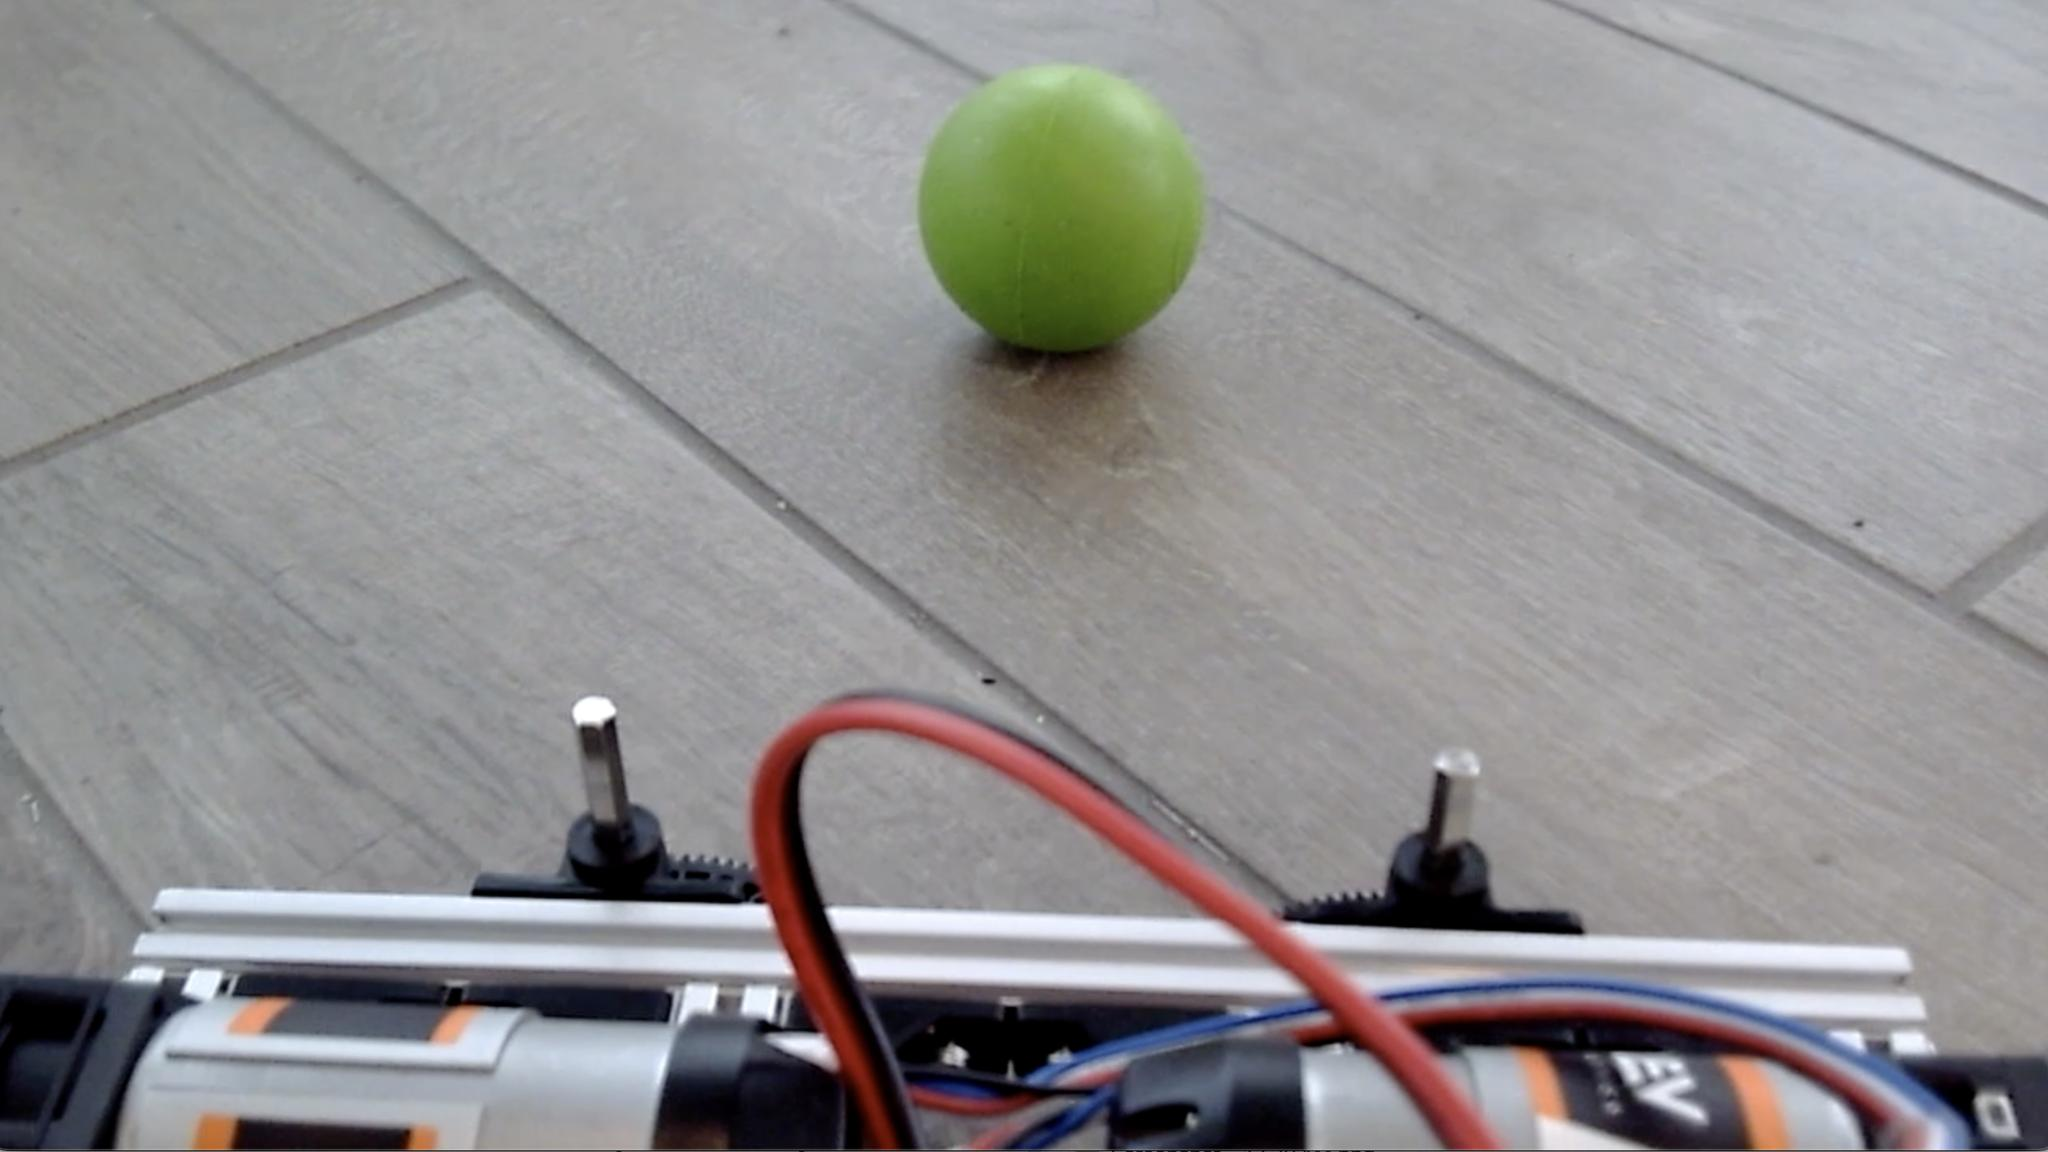greenball: (914, 59, 1205, 356)
